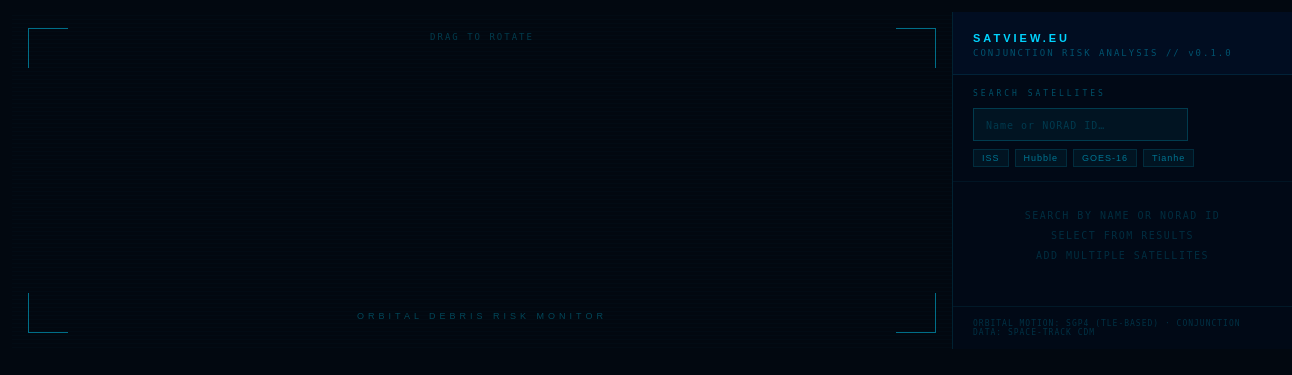
Test: loadAndTrack error handling › shows backend error message from {success,data} envelope when satellite cannot be loaded
Type "r2" into the field with placeholder "Name or NORAD ID…" at (1080, 124), box [973, 108, 1188, 141]
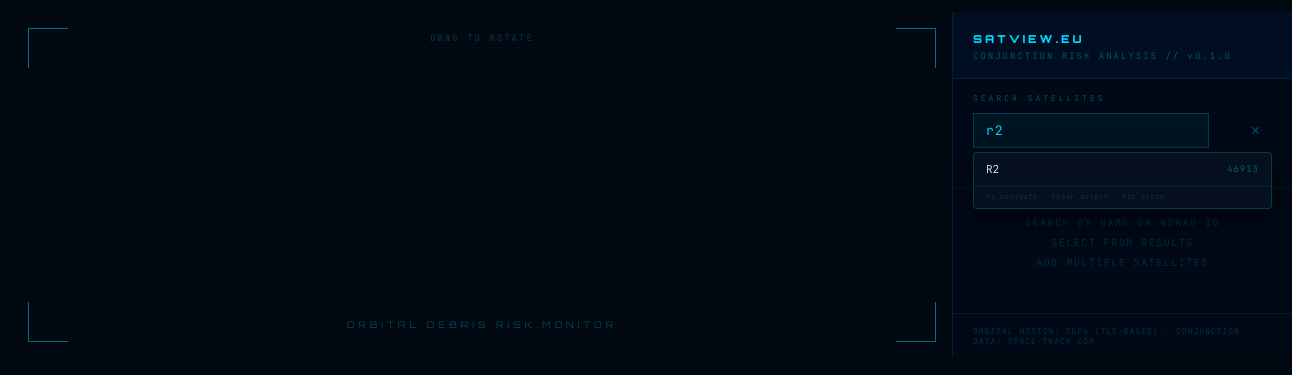
// Click the first search result
Click the option "R2 46913" at (1243, 169), box [974, 153, 1271, 186]
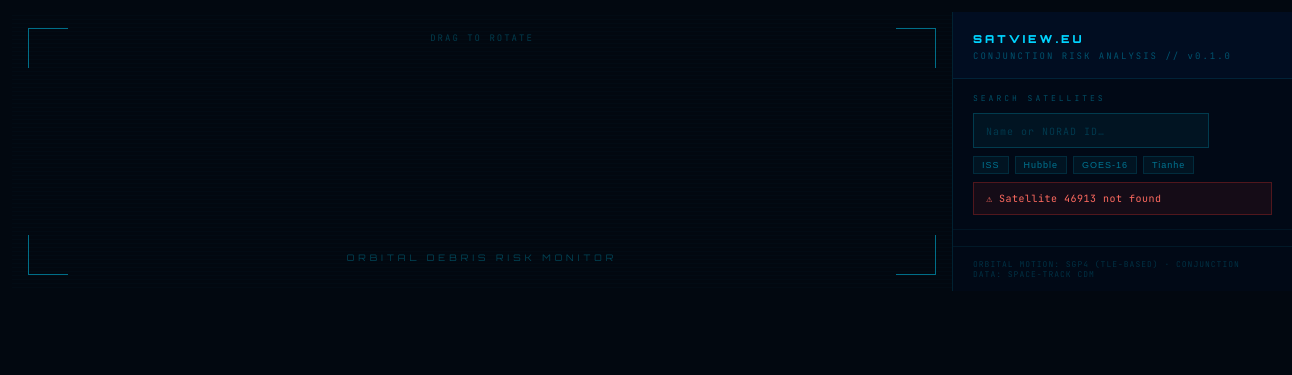
expect the text "⚠ Satellite 46913 not found" is shown: met, box [973, 182, 1272, 215]
